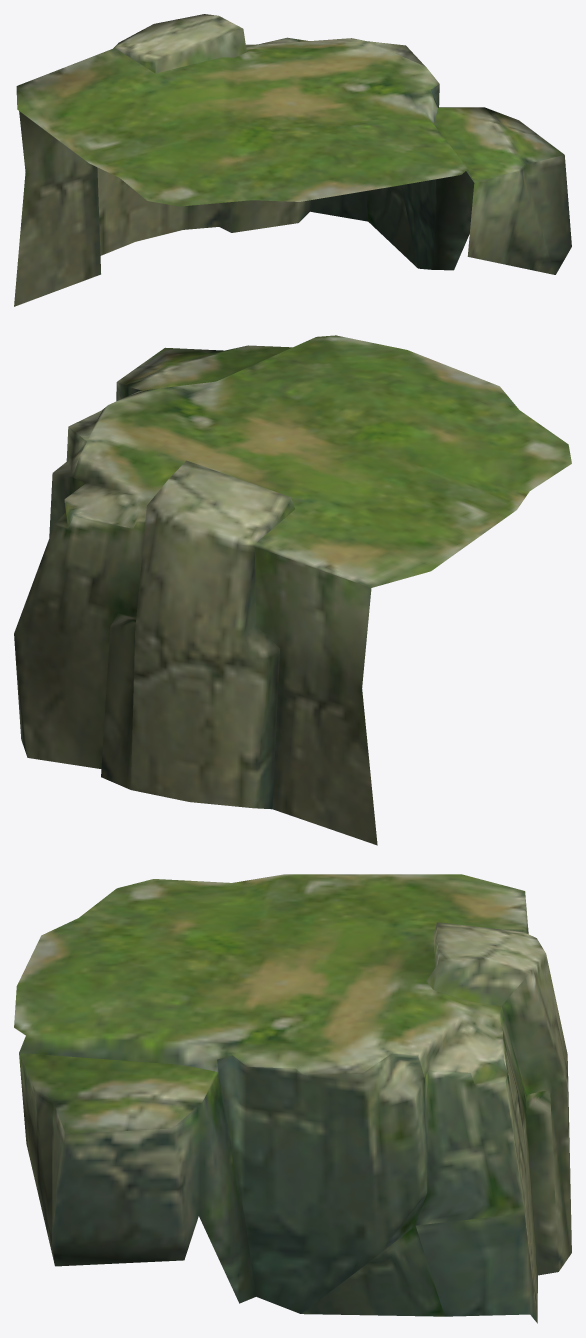
File: S_Rock_Green054_1060_1.fbx
3 views of the same model, one above another, from view 1: azimuth 30°, elevation 25°; view 2: azimuth 150°, elevation 25°; view 3: azimuth 270°, elevation 25° (orthographic). The views are drawn at different scales.
Parts seen in each view (by area): view 1: S_Rock_Green054_1060_1; view 2: S_Rock_Green054_1060_1; view 3: S_Rock_Green054_1060_1.
Boxes of the visible parts, x1,y1,x2,y2 form: S_Rock_Green054_1060_1: [14, 14, 571, 306]; S_Rock_Green054_1060_1: [14, 335, 571, 845]; S_Rock_Green054_1060_1: [14, 874, 571, 1323].
Size of the model in its own units: 1565 by 979 by 1576.
Materials: 1 (1 with a texture image).
